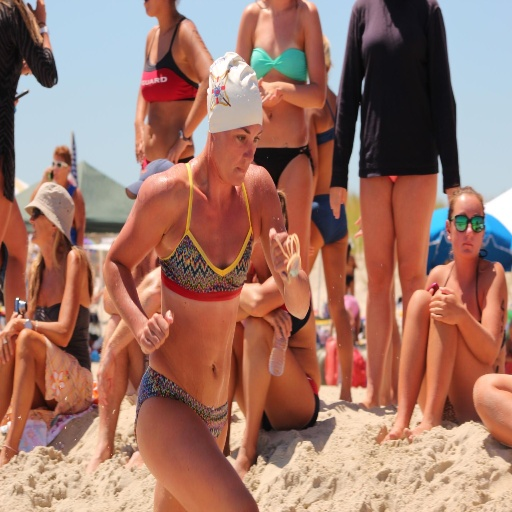hand: (267, 224, 306, 293), (138, 306, 176, 357), (428, 283, 463, 326), (95, 345, 115, 407), (0, 316, 25, 363), (262, 306, 291, 341), (165, 135, 193, 165), (258, 80, 285, 109), (133, 123, 151, 162), (25, 0, 48, 30), (328, 185, 346, 220), (258, 78, 285, 97), (245, 261, 258, 283), (447, 184, 461, 202), (352, 215, 361, 238), (20, 60, 31, 77), (41, 166, 52, 182)
